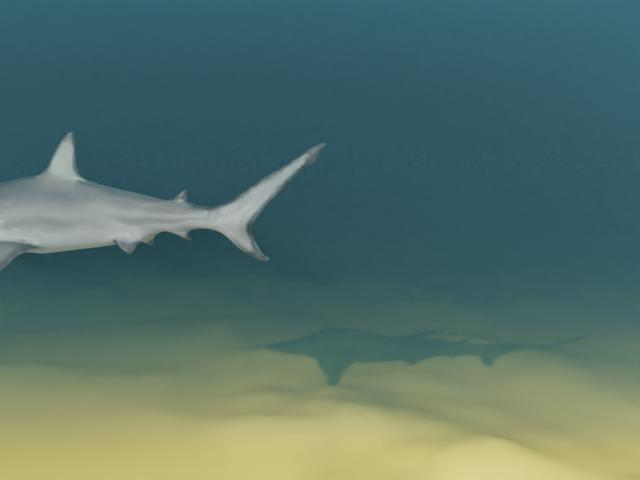Carribean Shark.001: (0, 131, 326, 280)
